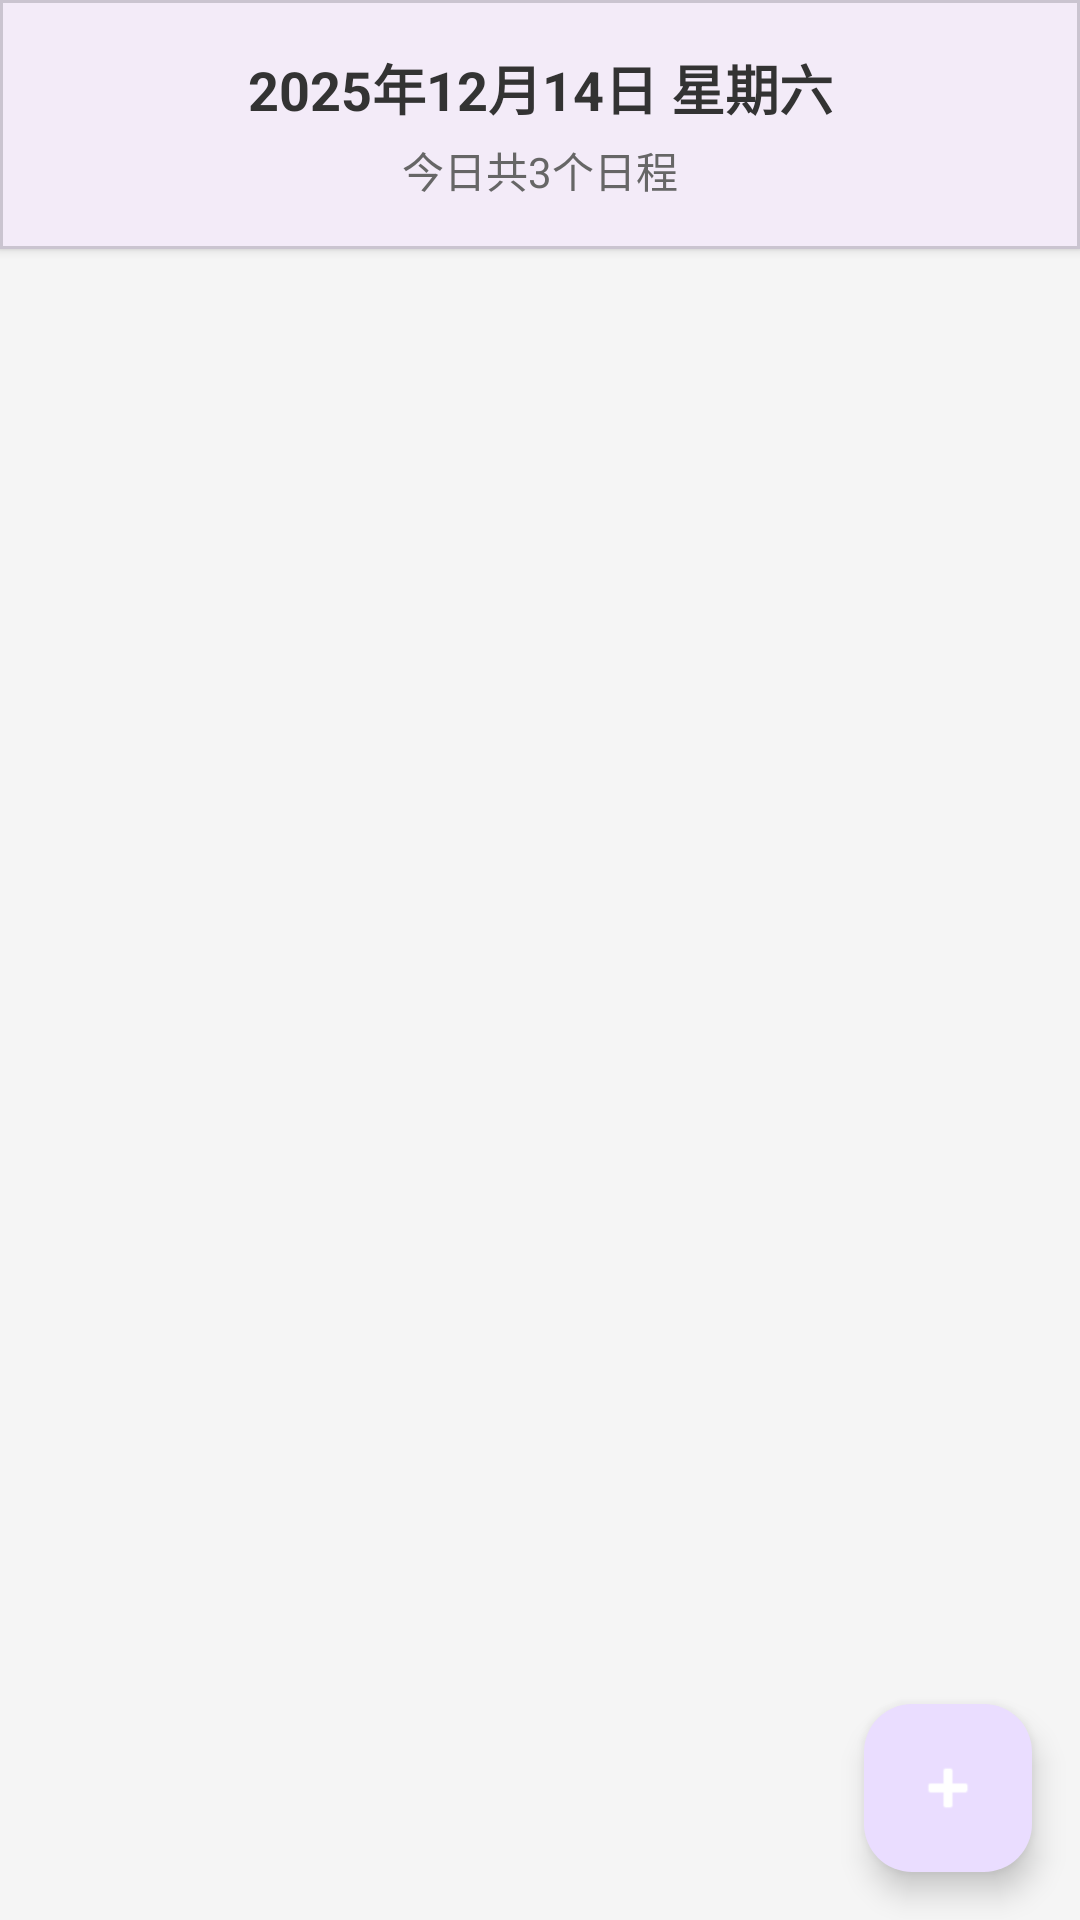

Icons on this 1080px×1920px Android screen, each with the point to tap as [x,y]:
添加日程: [948,1788]
